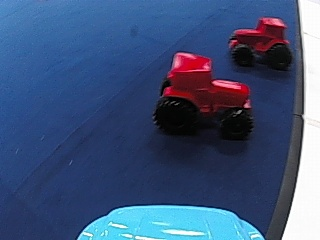tractor: (154, 46, 256, 140), (227, 15, 293, 69)
